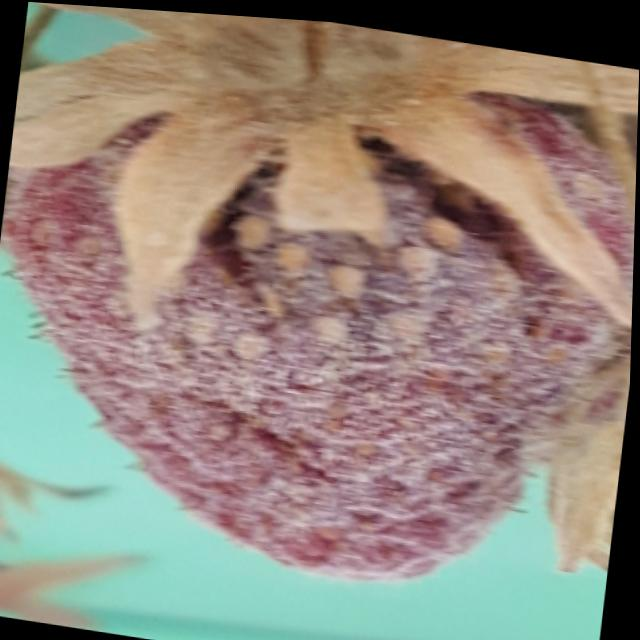Powdery Mildew Fruit: (12, 10, 637, 575)
